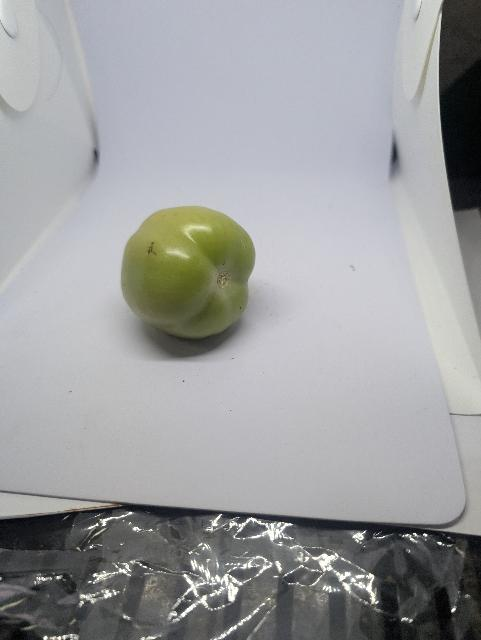green: (120, 203, 256, 343)
